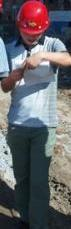hard-hat: (14, 0, 50, 34)
